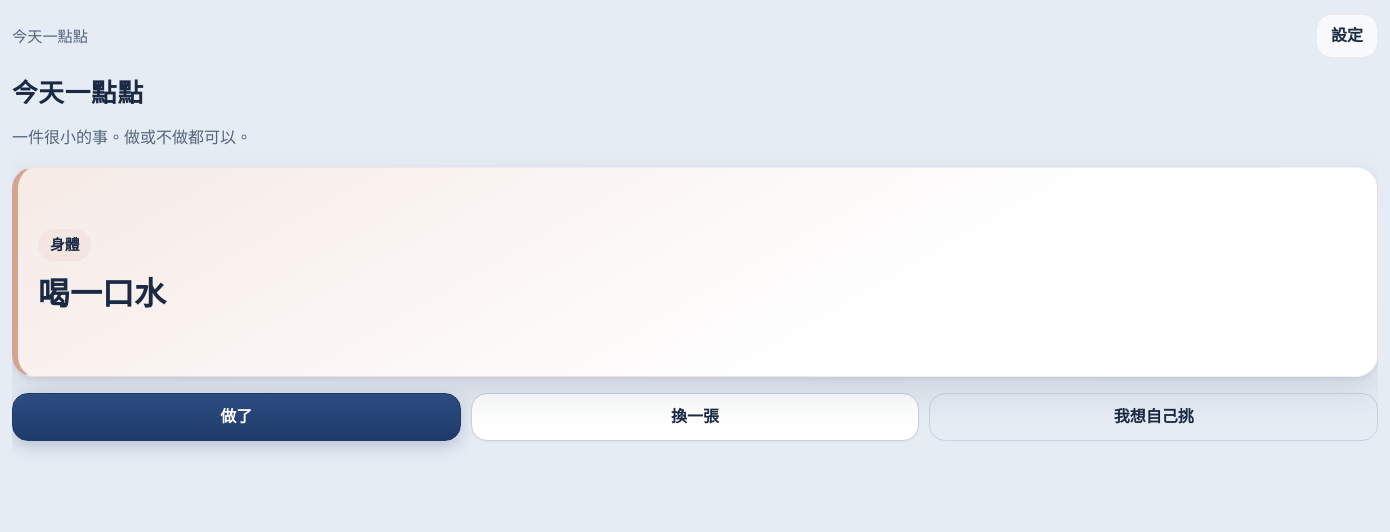
Test case: 今天一點點 › 做了只回應「好。」，記在今天，不計數
Expected: the text "喝一口水" is shown, [38,271,166,314]
Click the button "做了". click: (236, 417)
box: [12,393,461,441]
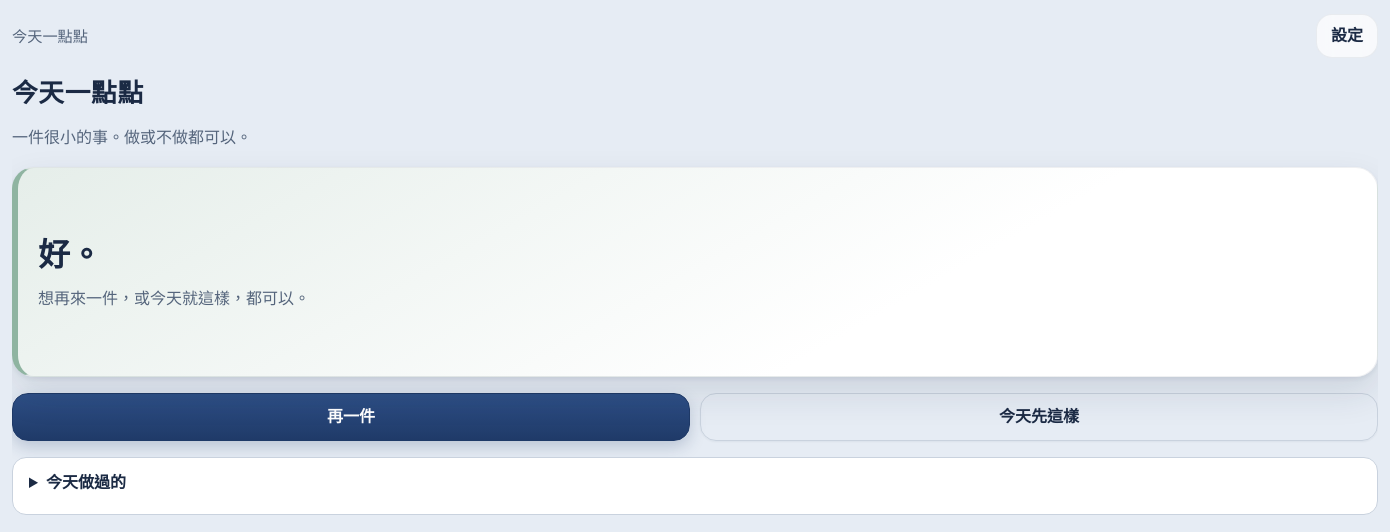
Now the text "好。" is shown, box [38,232,102,276]
Now the heading "今天做過的" is shown, box [46,471,126,493]
